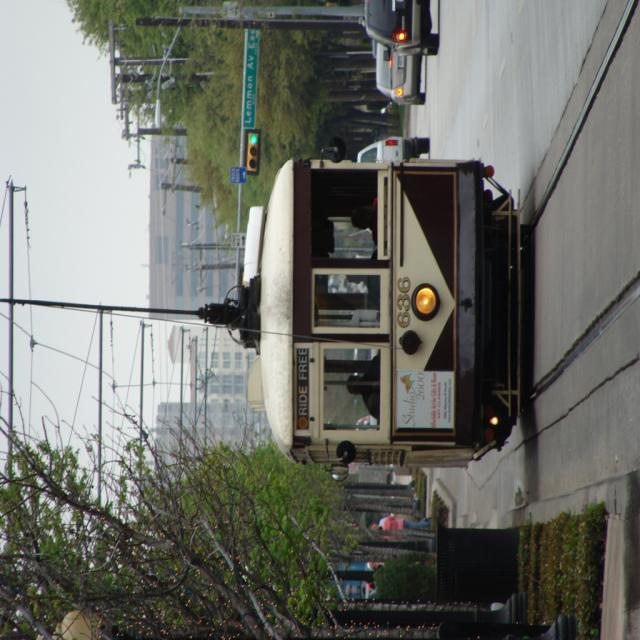traffic light: (239, 128, 263, 173)
